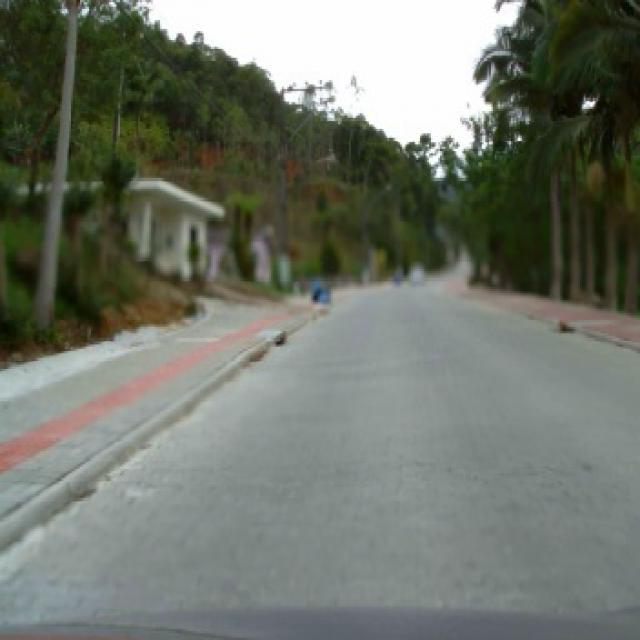Poth-hole: (560, 320, 580, 333), (276, 331, 289, 347)
